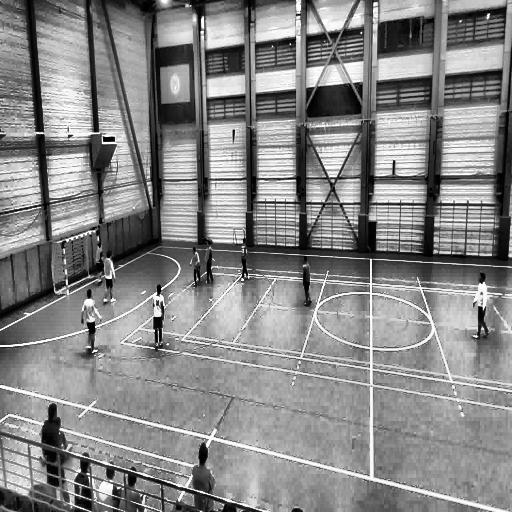player: (40, 404, 72, 506), (470, 271, 488, 340), (83, 288, 100, 353), (152, 284, 166, 348), (103, 252, 116, 304), (94, 239, 106, 285), (302, 254, 312, 306), (190, 245, 202, 286), (204, 242, 214, 284), (241, 237, 250, 279)
